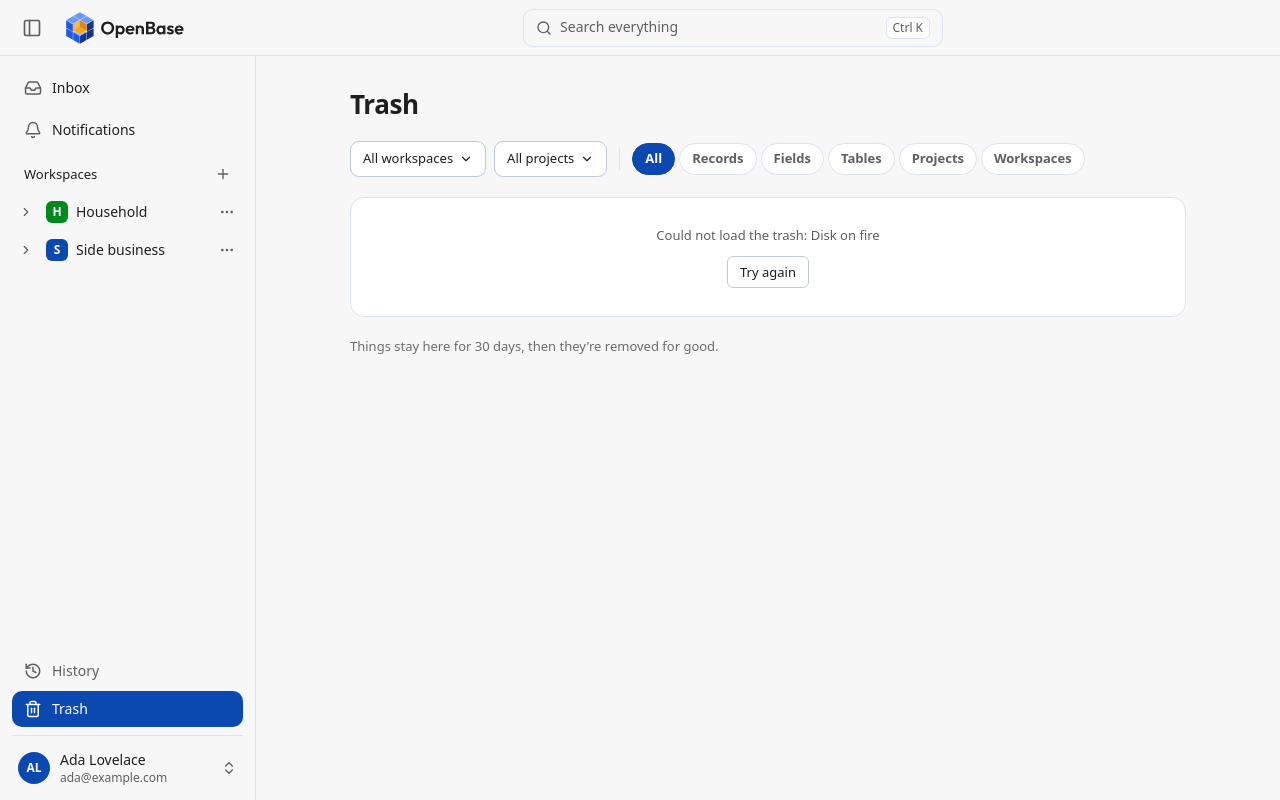
it: Trash page › shows an error with a way to try again
expect the message shows "Could not load the trash: Disk on fire": met, box top-left (350, 196), bottom-right (1186, 317)
What coordinates should you click on to do the following:
click the button "Try again"
I would click on:
 (768, 272)
Its box is top-left (727, 256), bottom-right (809, 288).
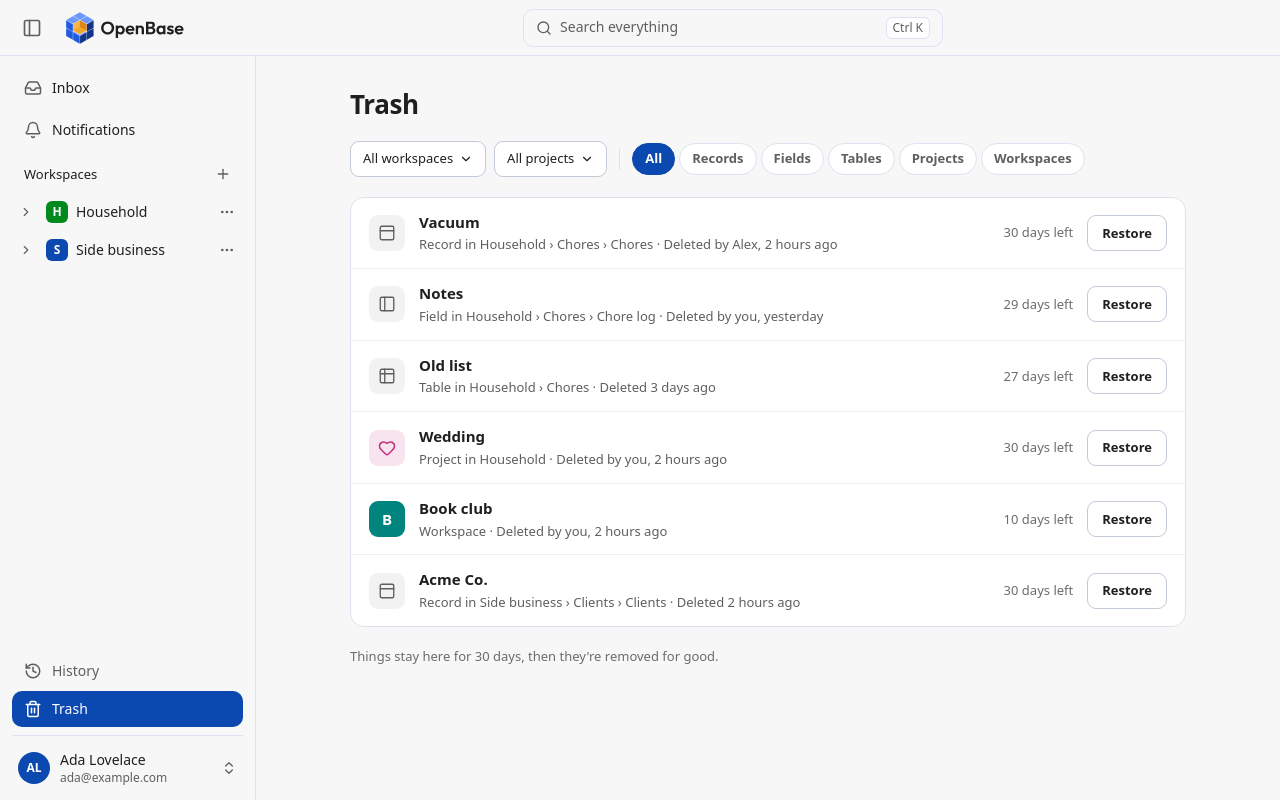
expect the list item "Vacuum" is shown: met, box top-left (419, 212), bottom-right (480, 232)
